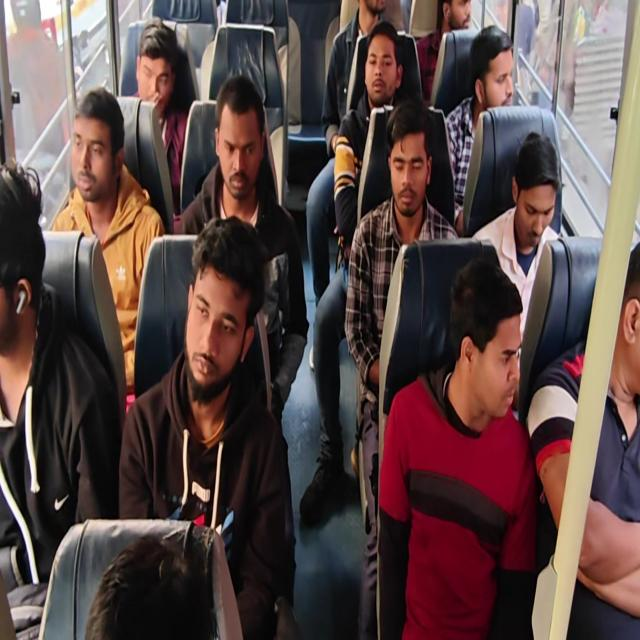person: (1, 2, 638, 638), (118, 215, 298, 638), (344, 97, 459, 637), (376, 256, 538, 638), (0, 158, 122, 638), (299, 19, 407, 525), (173, 73, 309, 429), (527, 240, 639, 638), (50, 86, 165, 414), (470, 130, 563, 416), (305, 0, 387, 306), (332, 21, 406, 248), (444, 24, 515, 230), (84, 532, 218, 639), (128, 18, 193, 214), (321, 0, 386, 156), (415, 0, 471, 105)
